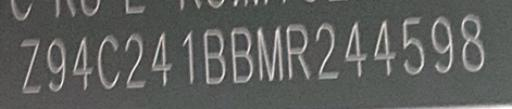letter: (284, 21, 314, 84), (400, 13, 428, 78), (255, 25, 285, 84), (342, 19, 370, 80), (200, 26, 228, 85), (429, 14, 455, 77), (372, 16, 398, 79), (460, 13, 486, 74), (314, 20, 340, 81), (228, 26, 254, 85), (95, 32, 121, 91), (17, 36, 43, 95), (122, 32, 148, 89), (150, 30, 174, 87), (70, 35, 94, 92), (44, 37, 66, 94), (180, 27, 196, 86)
